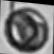correct: (7, 1, 51, 54)
